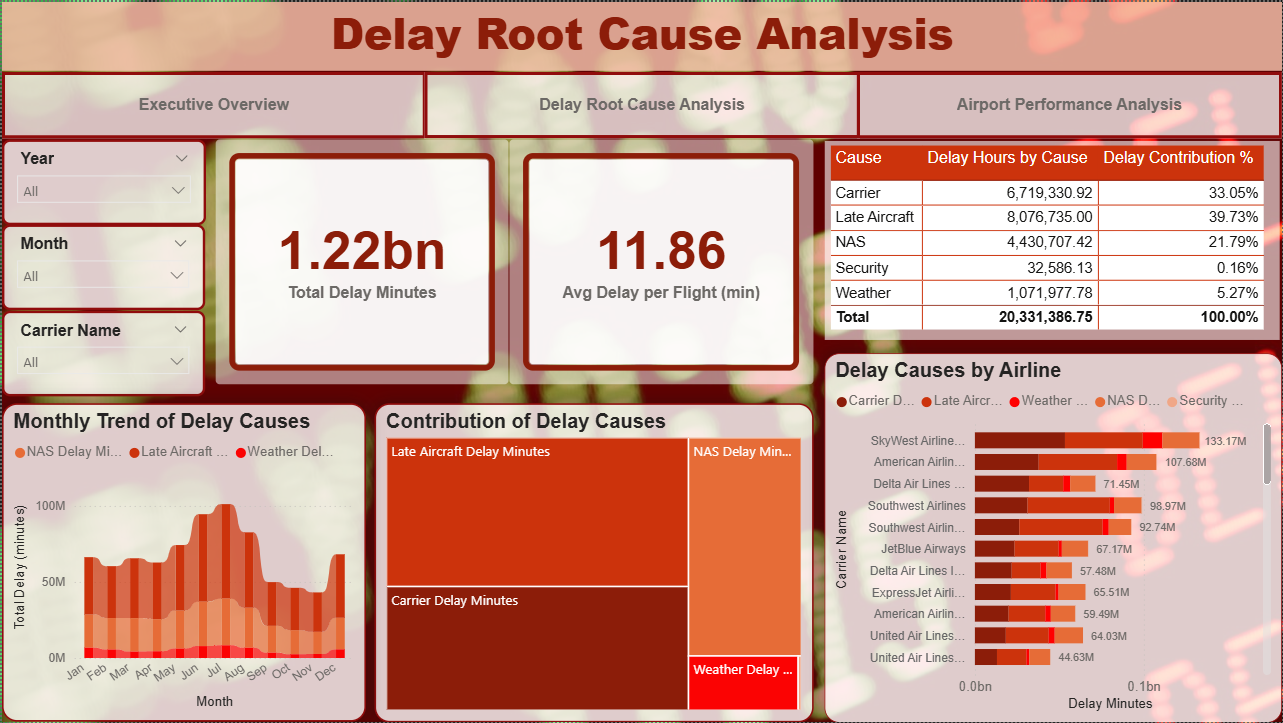

The page's visual inventory and layout, read from the dashboard file:
{"tool":"powerbi","page":{"name":"Delay Root Cause Analysis","canvas":[1280,720],"ordinal":1},"visuals":[{"type":"textbox","title":"Delay Root Cause Analysis","box":[0,0,1280.3,68.5],"z":0},{"type":"actionButton","box":[0,70,423.8,66.2],"z":1000},{"type":"actionButton","box":[421.9,69.7,435.3,66],"z":2000},{"type":"actionButton","box":[855,70,425,66.2],"z":3000},{"type":"slicer","fields":{"Values":["vw_Airline_Performance.year"]},"box":[0,137,204.2,85.6],"z":4000},{"type":"slicer","fields":{"Values":["vw_Airline_Performance.month"]},"box":[0,222.6,203,85.6],"z":5000},{"type":"slicer","fields":{"Values":["vw_Airline_Performance.carrier_name"]},"box":[0,308.2,203,85.6],"z":6000},{"type":"cardVisual","fields":{"Data":["vw_Airline_Performance.Total Delay Minutes"]},"box":[203,126,315.5,267.8],"z":7000},{"type":"cardVisual","fields":{"Data":["vw_Airline_Performance.Avg Delay per Flight (min)"]},"box":[496.5,126,326.5,267.8],"z":8000},{"type":"treemap","title":"Contribution of Delay Causes","fields":{"Values":["vw_Airline_Performance.Carrier Delay Minutes","vw_Airline_Performance.Late Aircraft Delay Minutes","vw_Airline_Performance.Weather Delay Minutes","vw_Airline_Performance.NAS Delay Minutes","vw_Airline_Performance.Security Delay Minutes"]},"box":[373,401.1,439,319.2],"z":9000},{"type":"barChart","title":"Delay Causes by Airline","fields":{"Category":["vw_Airline_Performance.carrier_name"],"Y":["vw_Airline_Performance.Carrier Delay Minutes","vw_Airline_Performance.Late Aircraft Delay Minutes","vw_Airline_Performance.Weather Delay Minutes","vw_Airline_Performance.NAS Delay Minutes","vw_Airline_Performance.Security Delay Minutes"]},"box":[823,351,457.3,369.3],"z":10000},{"type":"ribbonChart","title":"Monthly Trend of Delay Causes","fields":{"Category":["DateTable.Month"],"Y":["vw_Airline_Performance.NAS Delay Minutes","vw_Airline_Performance.Late Aircraft Delay Minutes","vw_Airline_Performance.Weather Delay Minutes"]},"box":[0,401.3,364.3,318.5],"z":11000},{"type":"tableEx","fields":{"Values":["Delay_Cause.Cause","Delay_Cause.Delay Hours by Cause","Delay_Cause.Delay Contribution %"]},"box":[823,138.2,454.9,199.3],"z":12000}]}

Visuals, with their boxes in screenshot pixels (x1, y1, x2, y2), scaled from the page's 1280x720 canvas onto the 1283x723 screenshot:
"Delay Root Cause Analysis" textbox: [left=0, top=0, right=1282, bottom=69]
actionButton: [left=0, top=70, right=425, bottom=137]
actionButton: [left=423, top=70, right=859, bottom=136]
actionButton: [left=857, top=70, right=1282, bottom=137]
slicer - vw_Airline_Performance.year: [left=0, top=138, right=205, bottom=224]
slicer - vw_Airline_Performance.month: [left=0, top=224, right=203, bottom=309]
slicer - vw_Airline_Performance.carrier_name: [left=0, top=309, right=203, bottom=395]
cardVisual - vw_Airline_Performance.Total Delay Minutes: [left=203, top=127, right=520, bottom=395]
cardVisual - vw_Airline_Performance.Avg Delay per Flight (min): [left=498, top=127, right=825, bottom=395]
"Contribution of Delay Causes" treemap: [left=374, top=403, right=814, bottom=722]
"Delay Causes by Airline" barChart: [left=825, top=352, right=1282, bottom=722]
"Monthly Trend of Delay Causes" ribbonChart: [left=0, top=403, right=365, bottom=722]
tableEx - Delay_Cause.Cause x Delay_Cause.Delay Hours by Cause: [left=825, top=139, right=1281, bottom=339]
